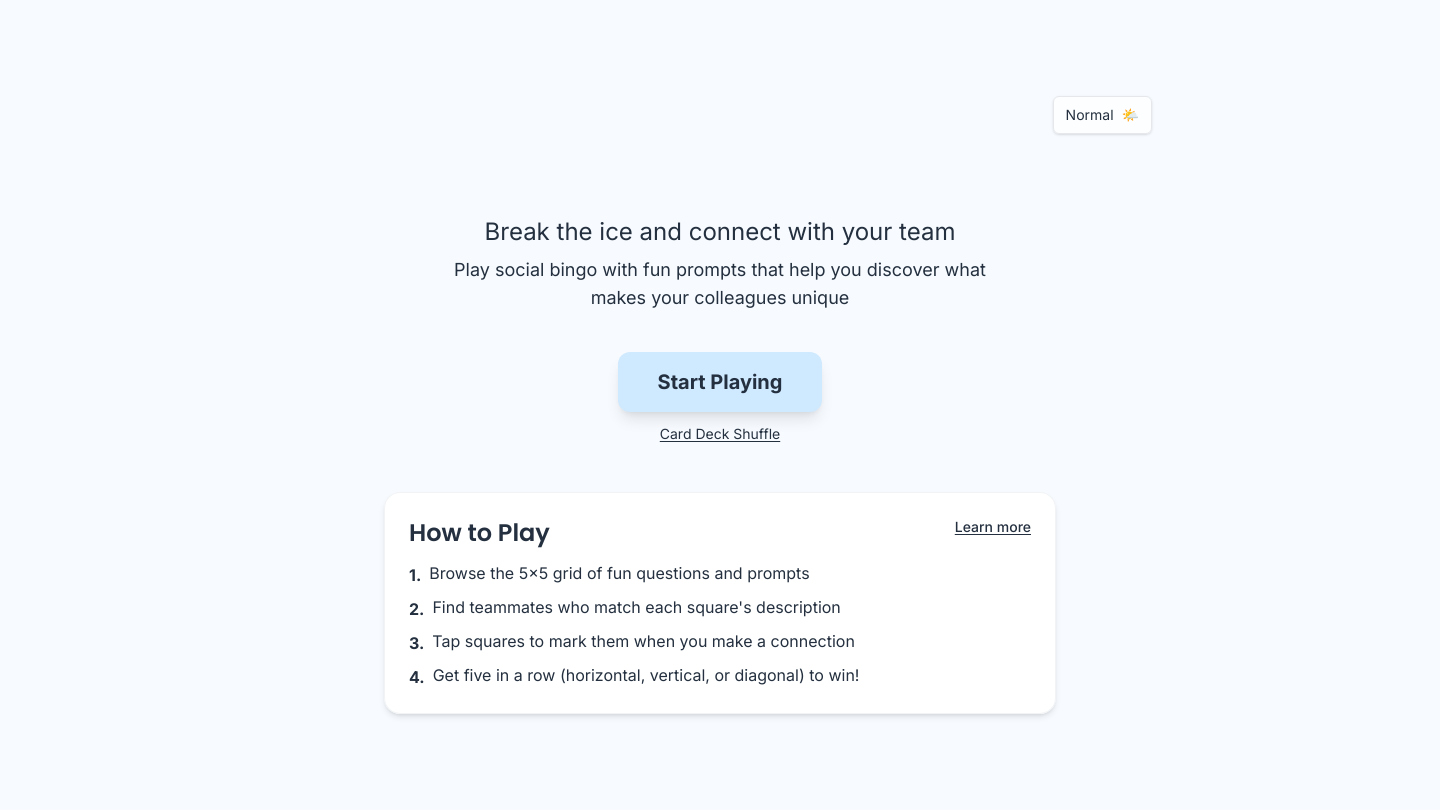
Test: StartScreenHero › should close modal when close button is clicked
# Open modal
Click the button "Learn more".
click(993, 527)  # box [955,517,1031,537]
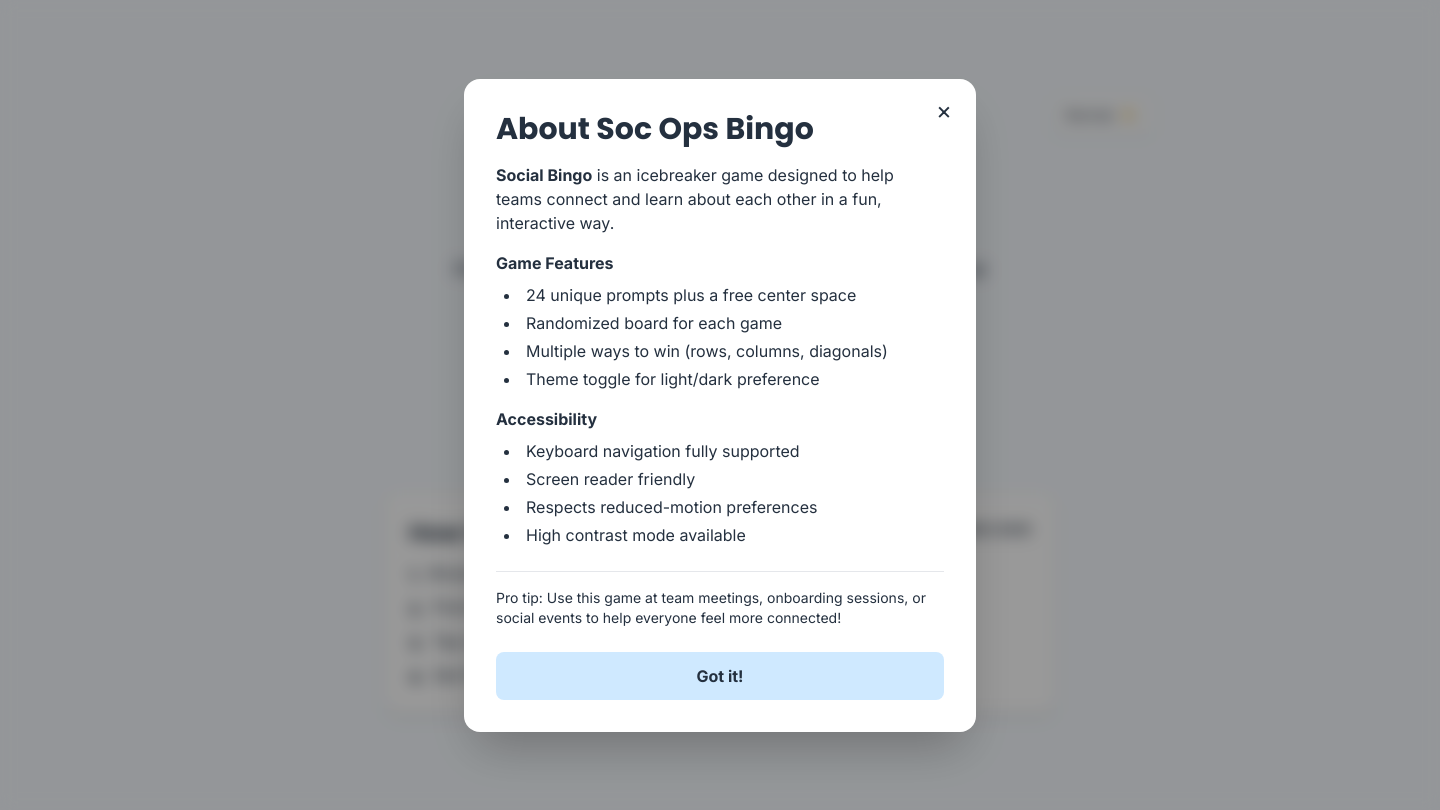
# Close modal
Click the button named "close modal".
click(944, 110)  # box [928,94,960,126]
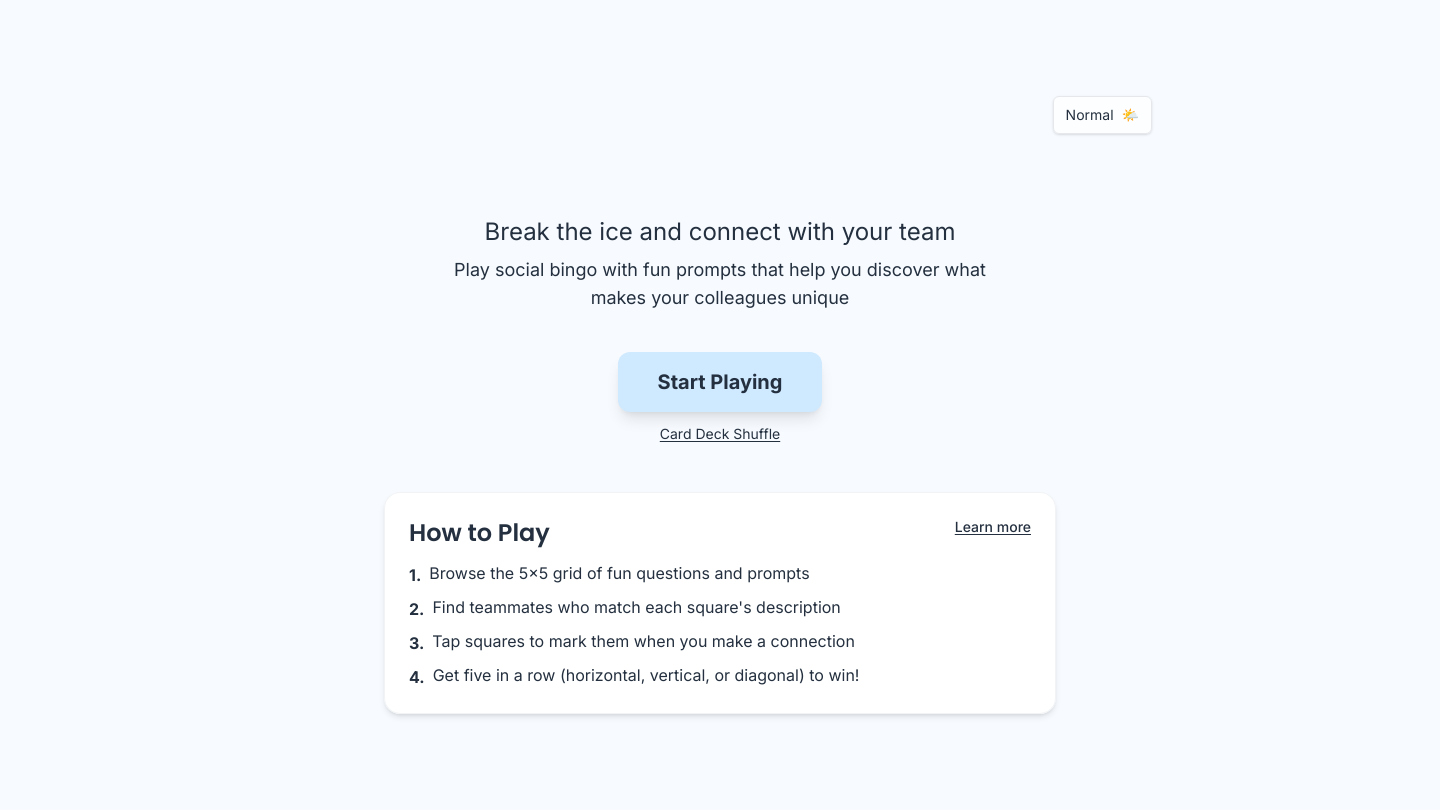
Now the dialog is gone
